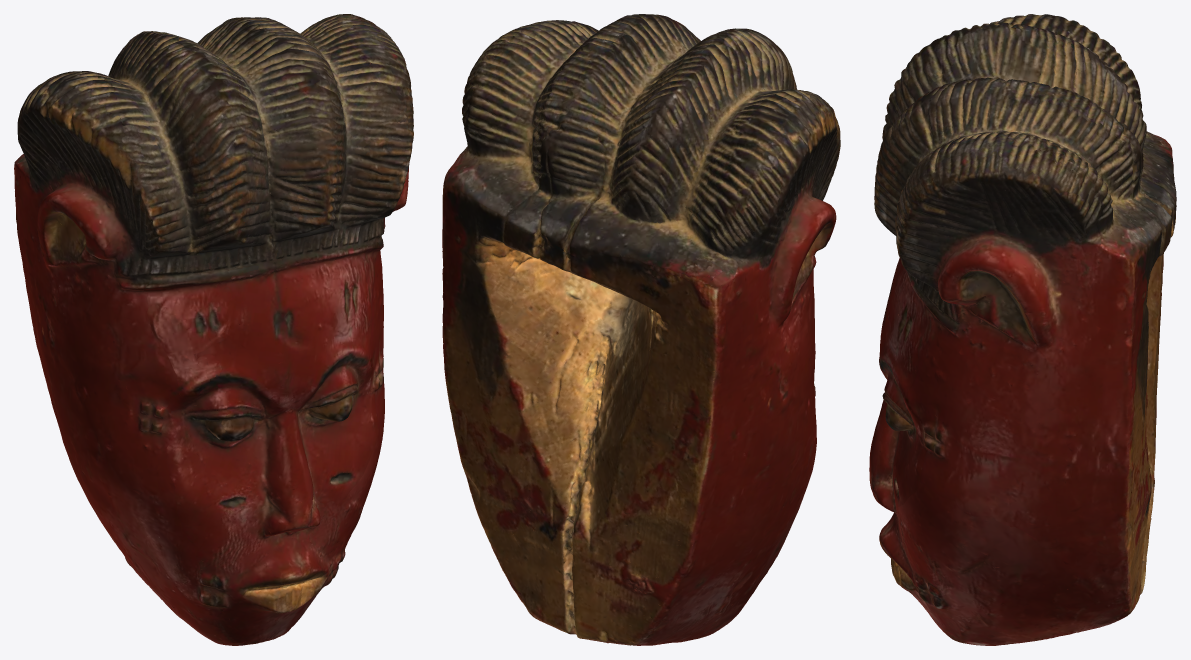
File: preview.glb
3 renders of one model, left to right at view 1: azimuth 30°, elevation 25°; view 2: azimuth 150°, elevation 25°; view 3: azimuth 270°, elevation 25°, orthographic. The views are drawn at different scales.
Visible parts, largest first — view 1: Object_2; view 2: Object_2; view 3: Object_2.
Part boxes in pixels (x1,y1,x2,y2): Object_2: [14, 14, 413, 645]; Object_2: [442, 14, 840, 645]; Object_2: [869, 14, 1176, 645].
Size of the model in its own units: 102 by 172 by 82.53.
Materials: 1 (1 with a texture image).
